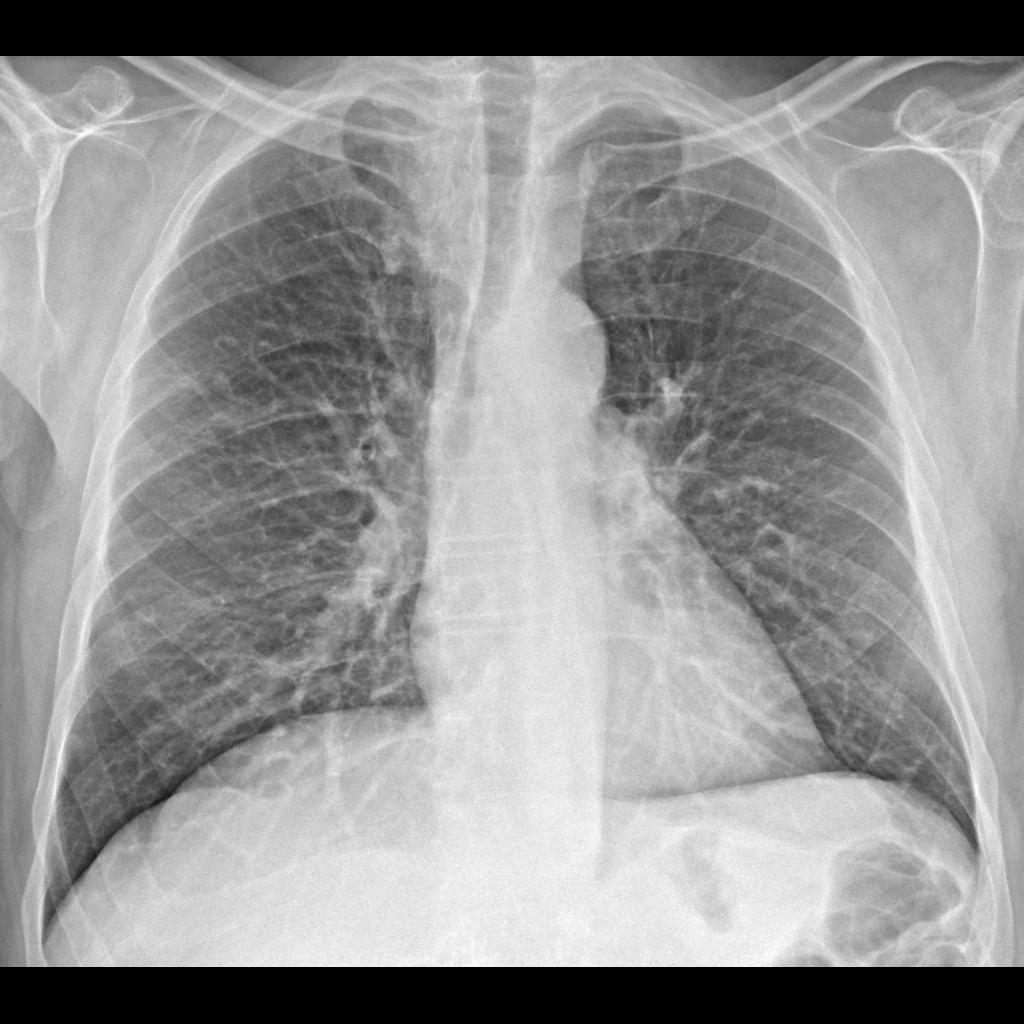Nodule: (198, 359, 240, 406)
